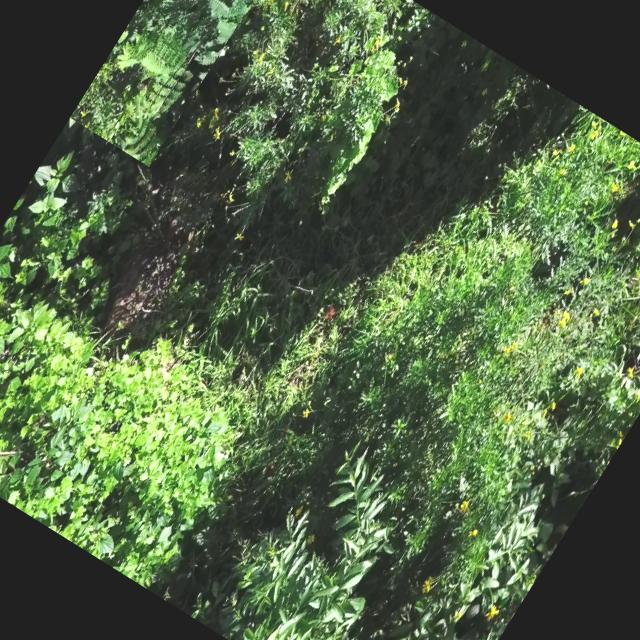Mysore-Thorn-Weed: (69, 0, 297, 167)
